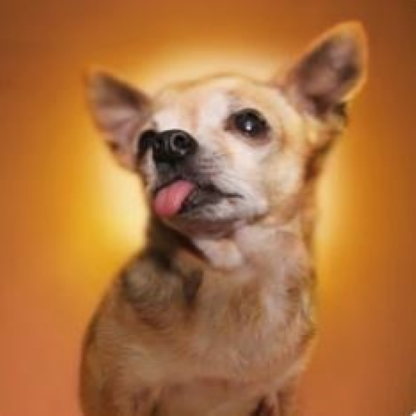chihuahua: (75, 19, 369, 416)
